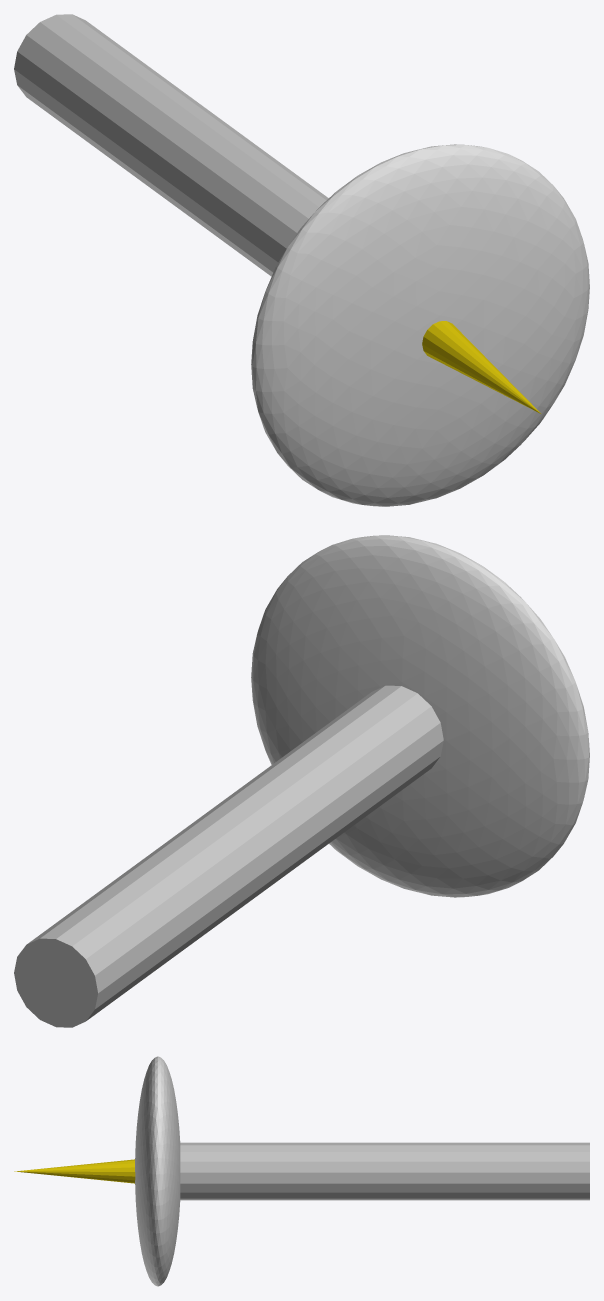
Rendered from space_needle.glb.
3 renders of one model, top to bottom at view 1: azimuth 30°, elevation 25°; view 2: azimuth 150°, elevation 25°; view 3: azimuth 270°, elevation 25°, orthographic. The views are drawn at different scales.
Visible parts, largest first — view 1: world; view 2: world; view 3: world.
Boxes of the visible parts, left/top/right/bottom form: world: left=14, top=14, right=589, bottom=506; world: left=14, top=535, right=589, bottom=1027; world: left=14, top=1056, right=589, bottom=1286.
Size of the model in its own units: 80 by 80 by 200.
